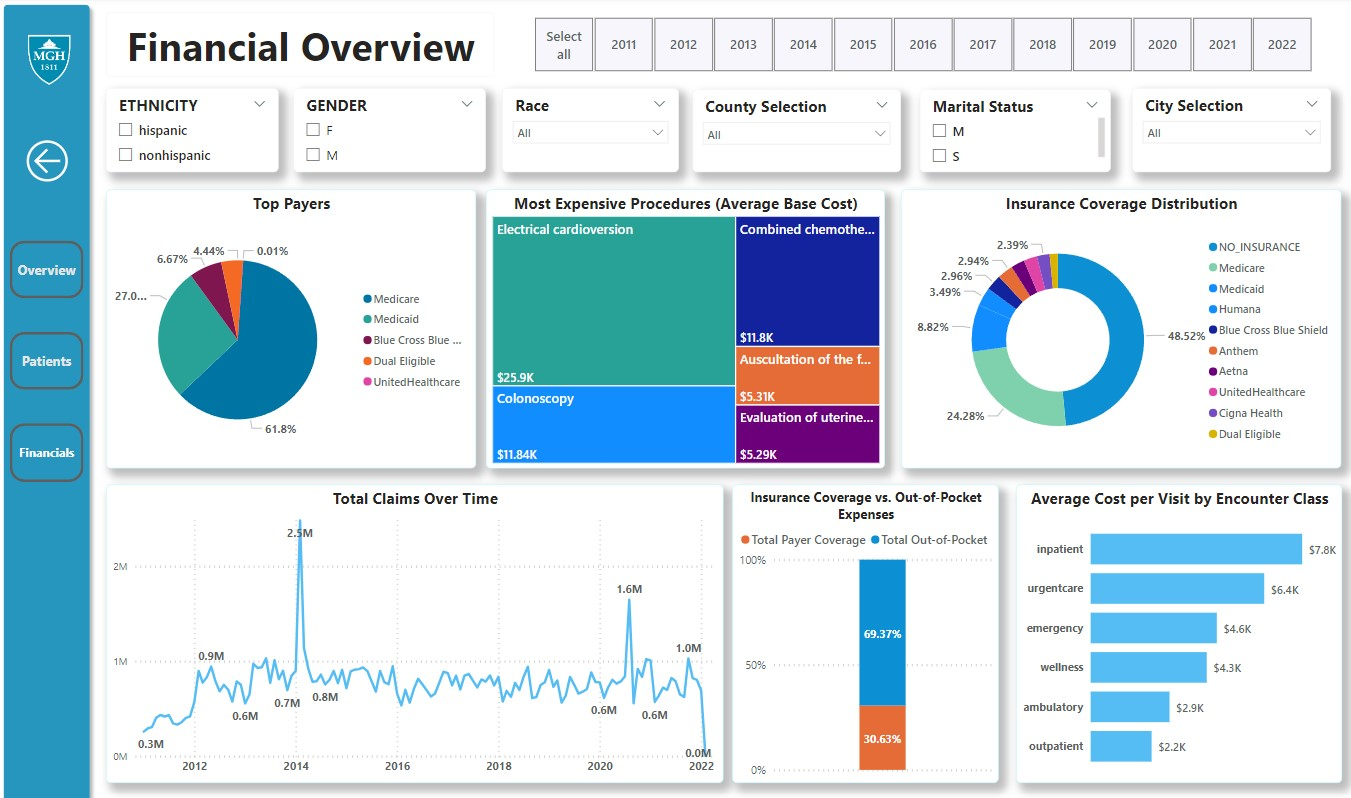

The page's visual inventory and layout, read from the dashboard file:
{"tool":"powerbi","page":{"name":"Financial Overview","canvas":[1664,986],"ordinal":2},"visuals":[{"type":"shape","box":[0,0,123.4,996.7],"z":0},{"type":"actionButton","box":[30.5,163.1,64,73.1],"z":1000},{"type":"pieChart","title":"Top Payers","fields":{"Category":["payers.NAME"],"Y":["Sum(encounters.PAYER_COVERAGE)"]},"box":[134.1,234.7,451.1,339.8],"z":2000},{"type":"lineChart","title":"Total Claims Over Time","fields":{"Category":["encounters.START.Variation.Date Hierarchy.Year","encounters.START.Variation.Date Hierarchy.Quarter","encounters.START.Variation.Date Hierarchy.Month"],"Y":["Sum(encounters.TOTAL_CLAIM_COST)"]},"box":[134.1,594.3,752.8,364.2],"z":3000},{"type":"clusteredBarChart","title":"Average Cost per Visit by Encounter Class","fields":{"Category":["encounters.ENCOUNTERCLASS"],"Y":["encounters.Average Cost per Visit"]},"box":[1243.5,594.3,397.8,364.2],"z":4000},{"type":"treemap","title":"Most Expensive Procedures (Average Base Cost)","fields":{"Group":["procedures.DESCRIPTION"],"Values":["Avg(procedures.BASE_COST)"]},"box":[597.4,234.7,486.1,339.8],"z":5000},{"type":"donutChart","title":"Insurance Coverage Distribution","fields":{"Category":["payers.NAME"],"Y":["Sum(encounters.TOTAL_CLAIM_COST)"]},"box":[1103.3,234.7,536.4,339.8],"z":6000},{"type":"slicer","fields":{"Values":["patients.ETHNICITY"]},"box":[134.1,111.2,210.3,102.1],"z":7000},{"type":"slicer","fields":{"Values":["patients.GENDER"]},"box":[362.7,111.2,234.7,102.1],"z":8000},{"type":"slicer","fields":{"Values":["patients.COUNTY"]},"box":[848.8,112.8,254.5,100.6],"z":9000},{"type":"slicer","fields":{"Values":["patients.MARITAL"]},"box":[1126.2,112.8,233.2,100.6],"z":10000},{"type":"slicer","fields":{"Values":["patients.CITY"]},"box":[1385.3,111.2,242.3,102.1],"z":11000},{"type":"slicer","fields":{"Values":["patients.RACE"]},"box":[617.2,111.2,214.9,102.1],"z":12000},{"type":"textbox","box":[134.1,18.3,474,79.2],"z":13000},{"type":"slicer","fields":{"Values":["encounters.START.Variation.Date Hierarchy.Year"]},"box":[630.9,18.3,996.7,79.2],"z":14000},{"type":"actionButton","box":[16.8,519.7,89.9,71.6],"z":15000},{"type":"actionButton","box":[16.8,408.4,89.9,70.1],"z":16000},{"type":"actionButton","box":[16.8,297.2,89.9,70.1],"z":17000},{"type":"hundredPercentStackedColumnChart","title":"Insurance Coverage vs. Out-of-Pocket Expenses","fields":{"Y":["encounters.Total Payer Coverage","encounters.Total Out-of-Pocket"]},"box":[897.6,594.3,324.6,364.2],"z":18000},{"type":"image","box":[0,18.3,129.5,117.3],"z":19000}]}

Visuals, with their boxes in screenshot pixels (x1, y1, x2, y2), scaled from the page's 1664x986 canvas onto the 1351x798 screenshot:
shape: bbox(0, 0, 100, 797)
actionButton: bbox(25, 132, 77, 191)
"Top Payers" pieChart: bbox(109, 190, 475, 465)
"Total Claims Over Time" lineChart: bbox(109, 481, 720, 776)
"Average Cost per Visit by Encounter Class" clusteredBarChart: bbox(1010, 481, 1333, 776)
"Most Expensive Procedures (Average Base Cost)" treemap: bbox(485, 190, 880, 465)
"Insurance Coverage Distribution" donutChart: bbox(896, 190, 1331, 465)
slicer - patients.ETHNICITY: bbox(109, 90, 280, 173)
slicer - patients.GENDER: bbox(294, 90, 485, 173)
slicer - patients.COUNTY: bbox(689, 91, 896, 173)
slicer - patients.MARITAL: bbox(914, 91, 1104, 173)
slicer - patients.CITY: bbox(1125, 90, 1321, 173)
slicer - patients.RACE: bbox(501, 90, 676, 173)
textbox: bbox(109, 15, 494, 79)
slicer - encounters.START.Variation.Date Hierarchy.Year: bbox(512, 15, 1321, 79)
actionButton: bbox(14, 421, 87, 479)
actionButton: bbox(14, 331, 87, 387)
actionButton: bbox(14, 241, 87, 297)
"Insurance Coverage vs. Out-of-Pocket Expenses" hundredPercentStackedColumnChart: bbox(729, 481, 992, 776)
image: bbox(0, 15, 105, 110)
